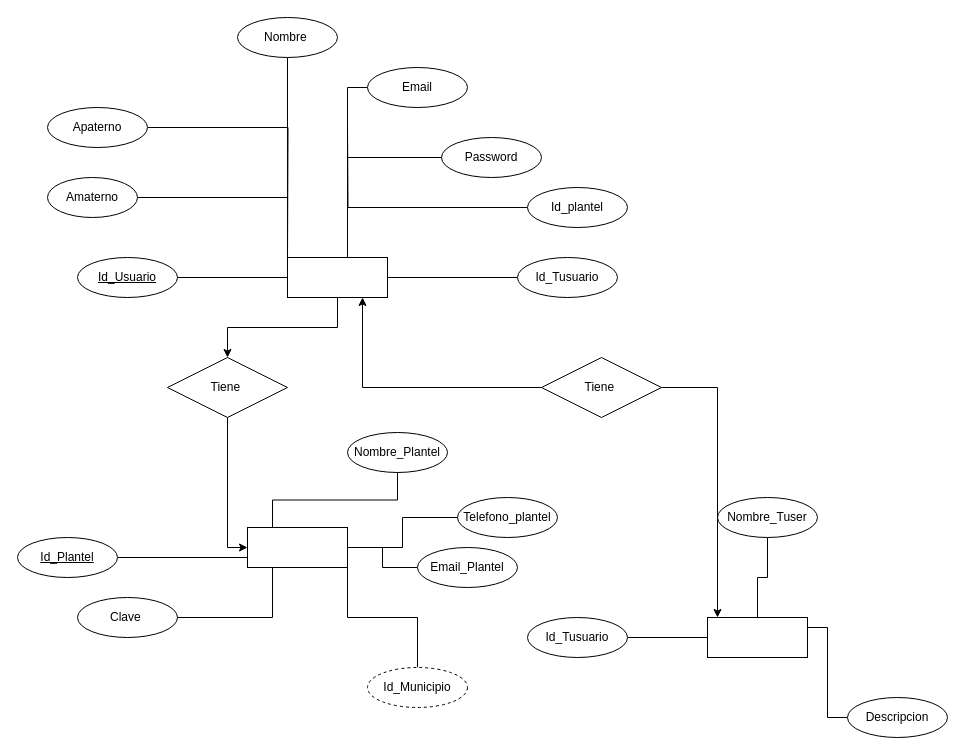
Some shapes in this 965 by 755 pixel diagram are drawn without their labels. Here are the shapes that lost their labels. From the top down, the centre of each, then its label:
the point at 337,277: Entity
the point at 297,547: Plantel
the point at 757,637: TUsuario
